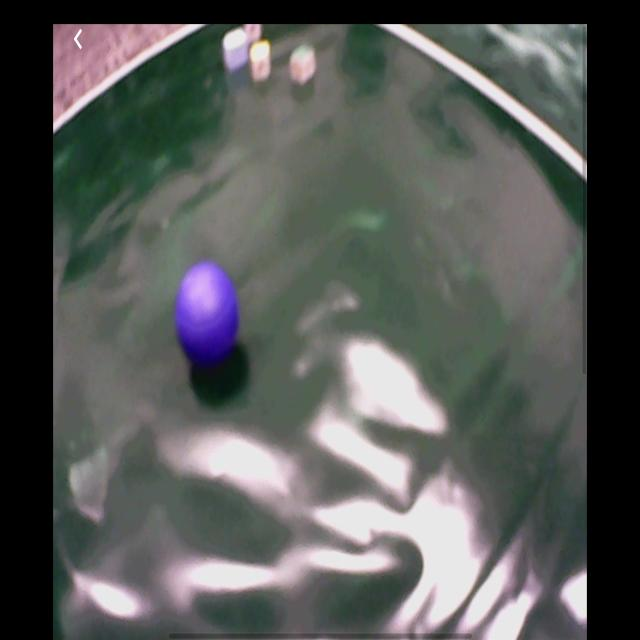ball: (173, 262, 240, 370)
